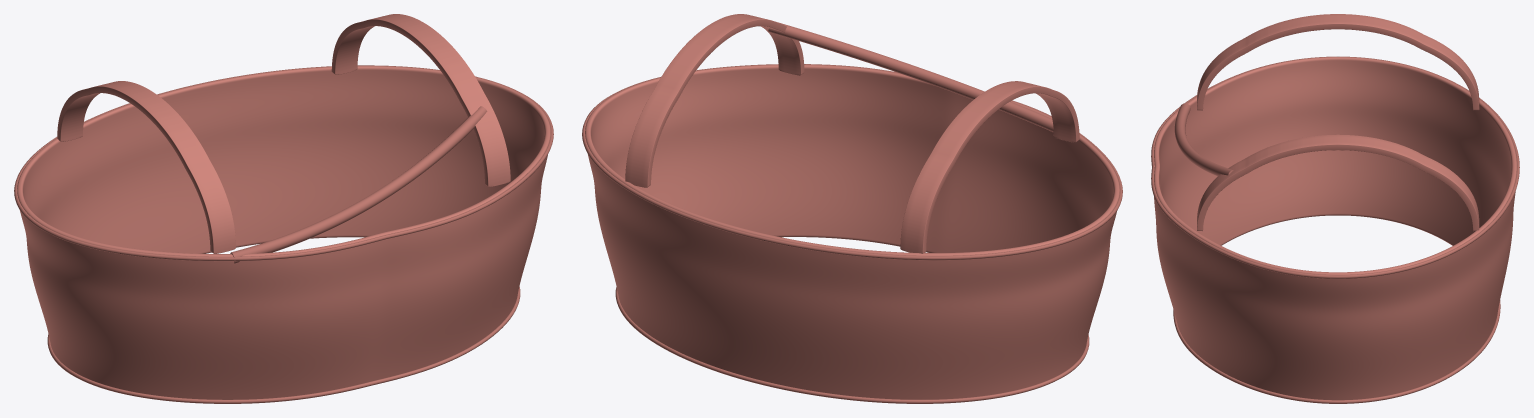
File: Feminine-strappy-top.glb
3 renders of one model, left to right at view 1: azimuth 30°, elevation 25°; view 2: azimuth 150°, elevation 25°; view 3: azimuth 270°, elevation 25°, orthographic. The views are drawn at different scales.
Parts seen in each view (by area): view 1: Clothing / strappy body, Clothing / strappy shoulder strap -1, Clothing / strappy shoulder strap 1, strappy body stitched edge.001 export, Crop diagonal strap export, strappy body stitched edge export; view 2: Clothing / strappy body, Clothing / strappy shoulder strap -1, Clothing / strappy shoulder strap 1, strappy body stitched edge.001 export, Crop diagonal strap export, strappy body stitched edge export; view 3: Clothing / strappy body, Clothing / strappy shoulder strap -1, Clothing / strappy shoulder strap 1, strappy body stitched edge.001 export, strappy body stitched edge export, Crop diagonal strap export.
Part boxes in pixels (bbox=[...]): Clothing / strappy body: bbox=[17, 65, 550, 399]; Clothing / strappy shoulder strap -1: bbox=[57, 81, 235, 253]; Clothing / strappy shoulder strap 1: bbox=[331, 14, 510, 186]; strappy body stitched edge.001 export: bbox=[14, 65, 553, 261]; Crop diagonal strap export: bbox=[230, 106, 487, 263]; strappy body stitched edge export: bbox=[47, 286, 520, 403]; Clothing / strappy body: bbox=[585, 64, 1119, 399]; Clothing / strappy shoulder strap -1: bbox=[900, 81, 1079, 253]; Clothing / strappy shoulder strap 1: bbox=[625, 14, 804, 187]; strappy body stitched edge.001 export: bbox=[582, 64, 1122, 260]; Crop diagonal strap export: bbox=[768, 21, 1053, 132]; strappy body stitched edge export: bbox=[615, 287, 1089, 403]; Clothing / strappy body: bbox=[1154, 56, 1516, 400]; Clothing / strappy shoulder strap -1: bbox=[1197, 14, 1479, 110]; Clothing / strappy shoulder strap 1: bbox=[1197, 134, 1479, 231]; strappy body stitched edge.001 export: bbox=[1151, 56, 1519, 278]; strappy body stitched edge export: bbox=[1173, 300, 1500, 403]; Crop diagonal strap export: bbox=[1174, 103, 1233, 176].
Bounding box in the file's own units: 0.7546 × 0.3673 × 0.534.
